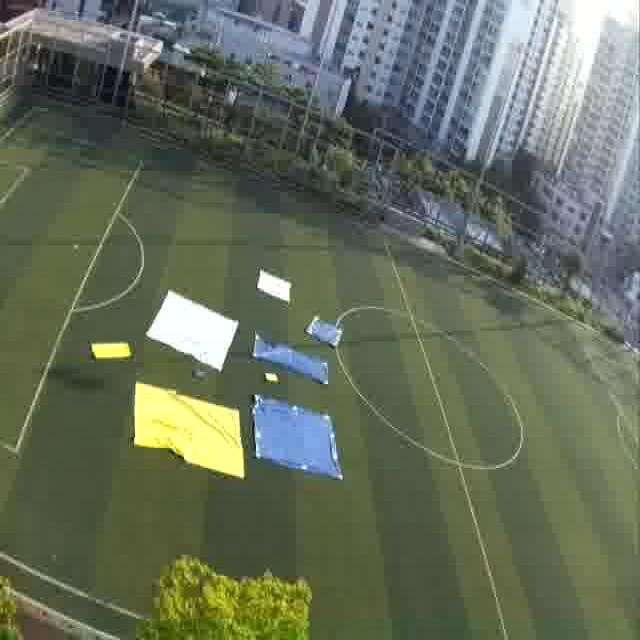danger: (253, 389, 340, 484), (255, 334, 303, 369), (309, 315, 344, 349)
safety: (144, 285, 242, 372), (252, 266, 301, 304)
warning: (131, 378, 248, 491), (89, 330, 137, 365)
